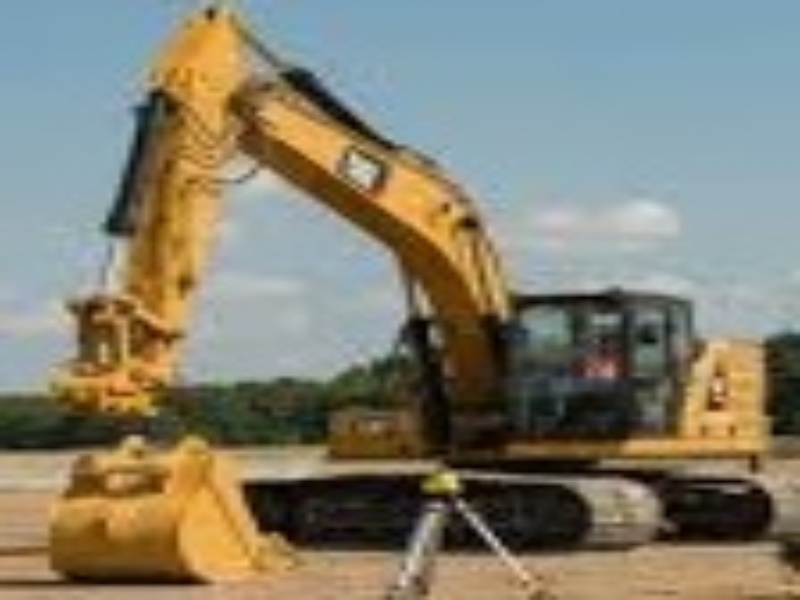wajueji: (236, 223, 784, 557)
